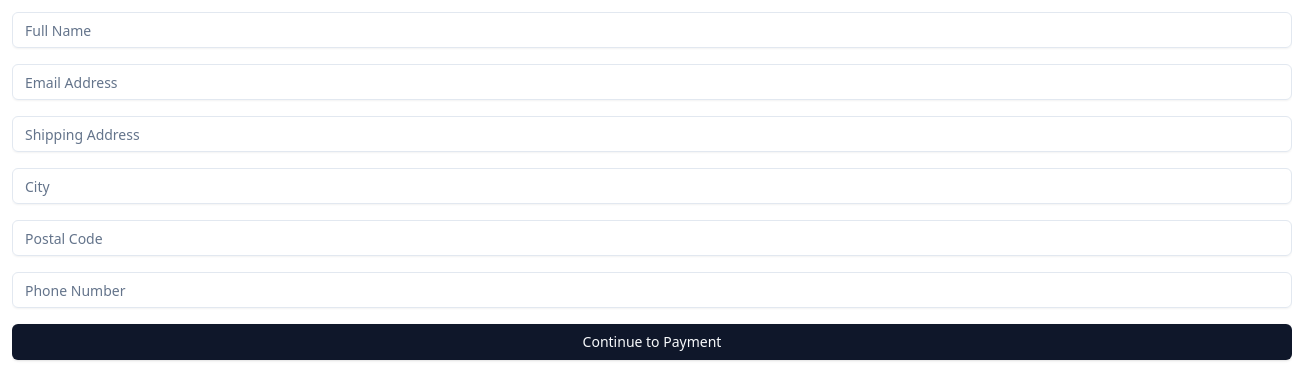
Scenario: ShippingForm › disables submit button when form is submitting
In the field with placeholder "Full Name": (652, 30) [12, 12, 1292, 48], type "John Doe"
In the field with placeholder "Email Address": (652, 82) [12, 64, 1292, 100], type "john@example.com"
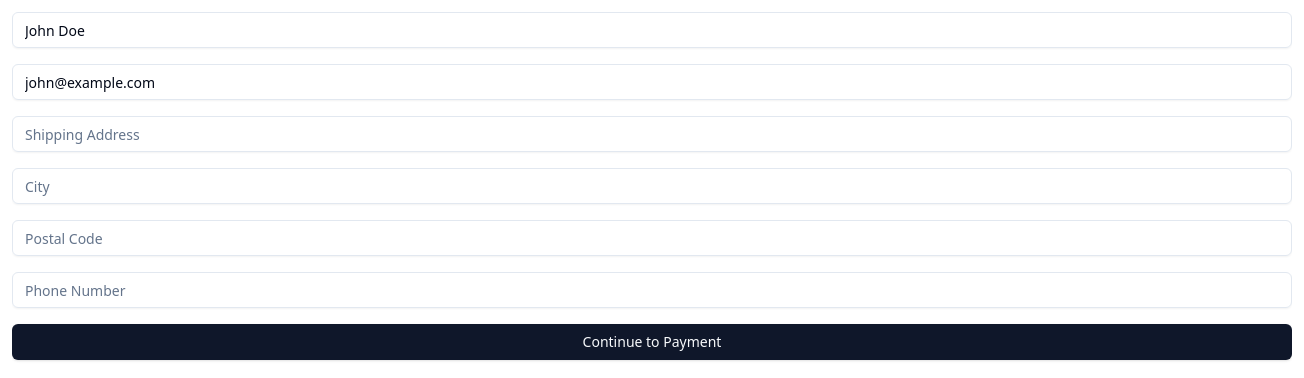
In the field with placeholder "Shipping Address": (652, 134) [12, 116, 1292, 152], type "123 Main St"
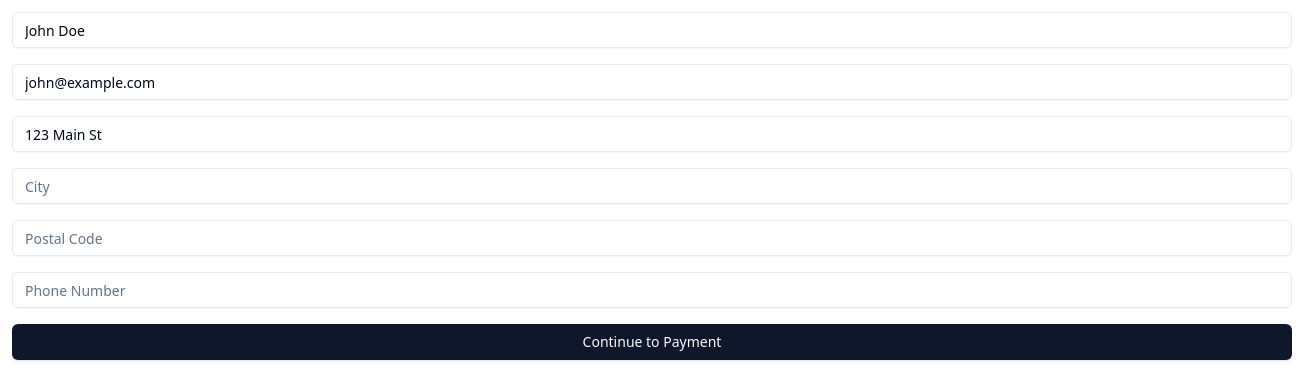
In the field with placeholder "City": (652, 186) [12, 168, 1292, 204], type "Anytown"
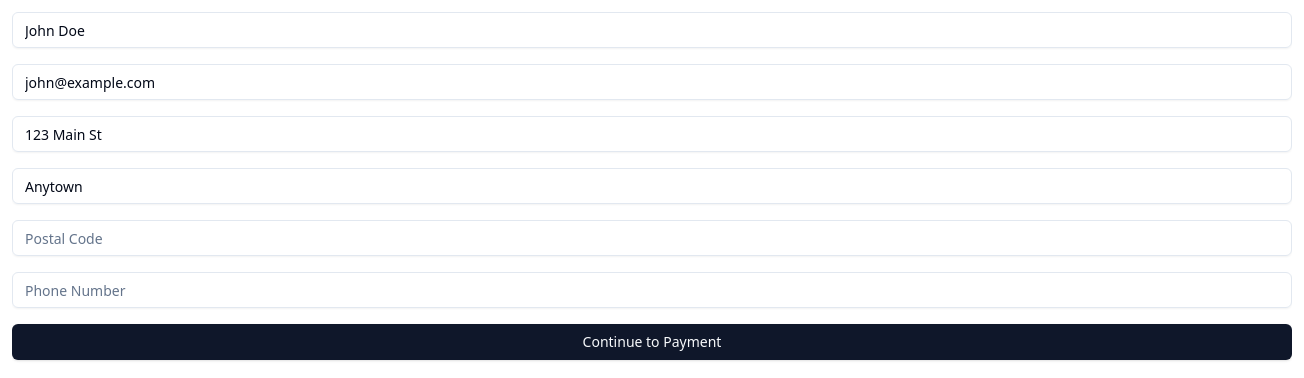
In the field with placeholder "Postal Code": (652, 238) [12, 220, 1292, 256], type "12345"
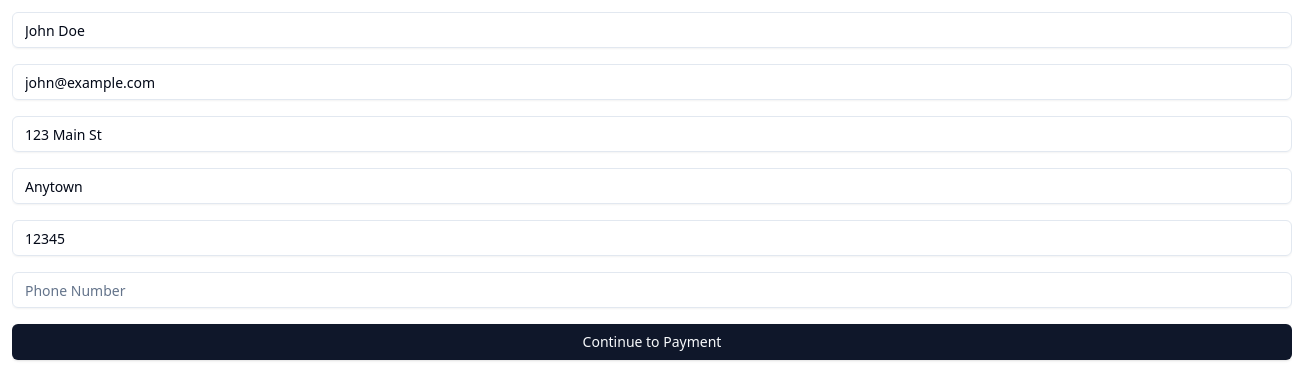
In the field with placeholder "Phone Number": (652, 290) [12, 272, 1292, 308], type "555-555-5555"
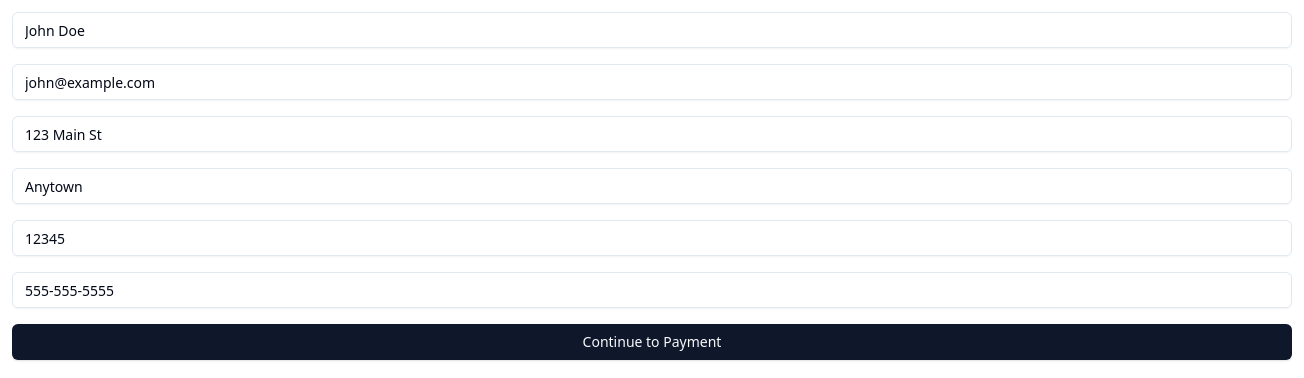
Click the button "Continue to Payment": click(652, 342) [12, 324, 1292, 360]
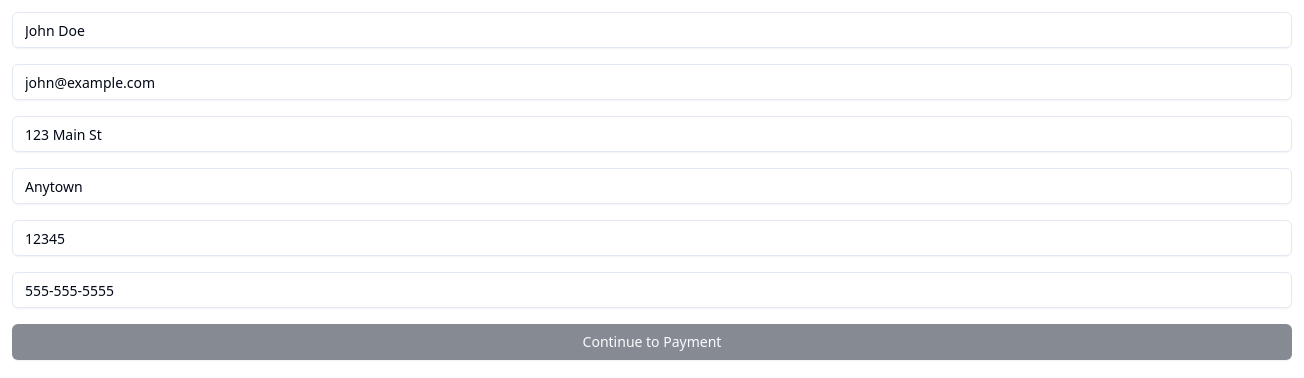
Expected: the button "Continue to Payment" is disabled, [12, 324, 1292, 360]
